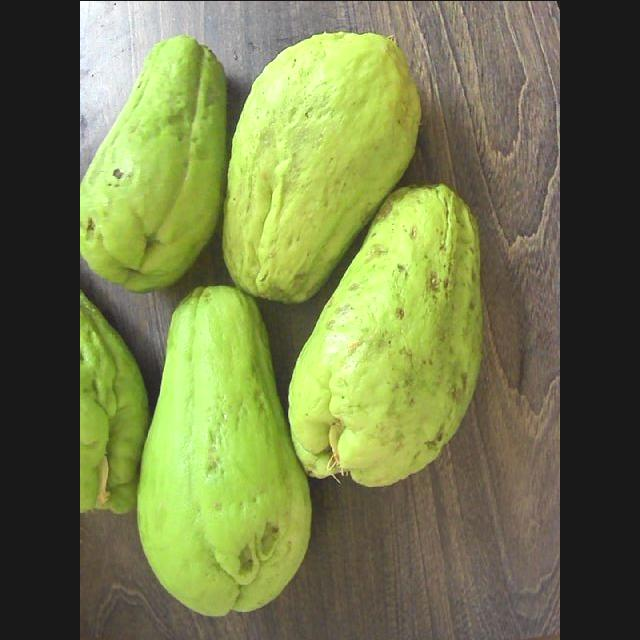chayote: (289, 185, 480, 486), (138, 285, 311, 615), (223, 32, 420, 302), (80, 35, 227, 291), (80, 290, 150, 513)
